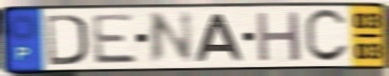A: (194, 12, 247, 62)
C: (302, 7, 352, 66)
D: (44, 13, 90, 67)
E: (90, 12, 141, 66)
H: (254, 10, 304, 64)
N: (146, 10, 196, 67)
